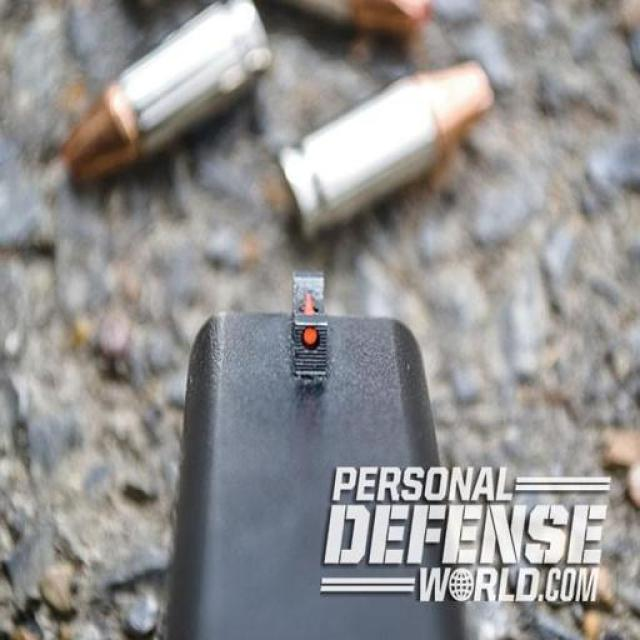pistol: (166, 260, 472, 640)
